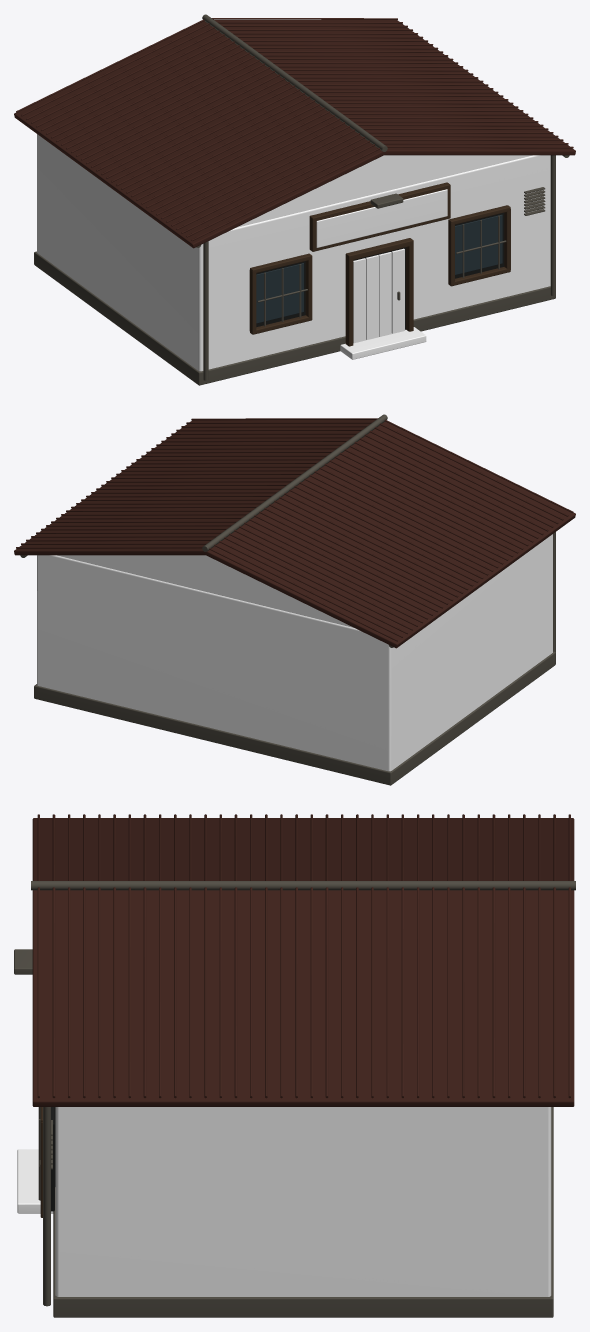
Rendered from noir-shop.glb.
3 renders of one model, top to bottom at view 1: azimuth 30°, elevation 25°; view 2: azimuth 150°, elevation 25°; view 3: azimuth 270°, elevation 25°, orthographic. The views are drawn at different scales.
Parts seen in each view (by area): view 1: roof-oxide.002, weathered-plaster.002, aged-steel.008, window-timber.002, crate-planks.003, smoked-glass.005, rubber.008; view 2: weathered-plaster.002, roof-oxide.002, aged-steel.008; view 3: roof-oxide.002, weathered-plaster.002, aged-steel.008.
Part boxes in pixels (x1=…): roof-oxide.002: x1=14, y1=18, x2=575, y2=248; weathered-plaster.002: x1=37, y1=134, x2=550, y2=371; aged-steel.008: x1=34, y1=14, x2=569, y2=385; window-timber.002: x1=249, y1=182, x2=510, y2=346; crate-planks.003: x1=353, y1=248, x2=404, y2=343; smoked-glass.005: x1=256, y1=214, x2=502, y2=323; rubber.008: x1=256, y1=213, x2=504, y2=329; weathered-plaster.002: x1=37, y1=534, x2=552, y2=771; roof-oxide.002: x1=14, y1=418, x2=575, y2=648; aged-steel.008: x1=20, y1=414, x2=555, y2=785; roof-oxide.002: x1=32, y1=814, x2=574, y2=1106; weathered-plaster.002: x1=17, y1=1107, x2=551, y2=1296; aged-steel.008: x1=14, y1=881, x2=575, y2=1317.
Bounding box in the file's own units: 10.83 × 5.44 × 9.07.
